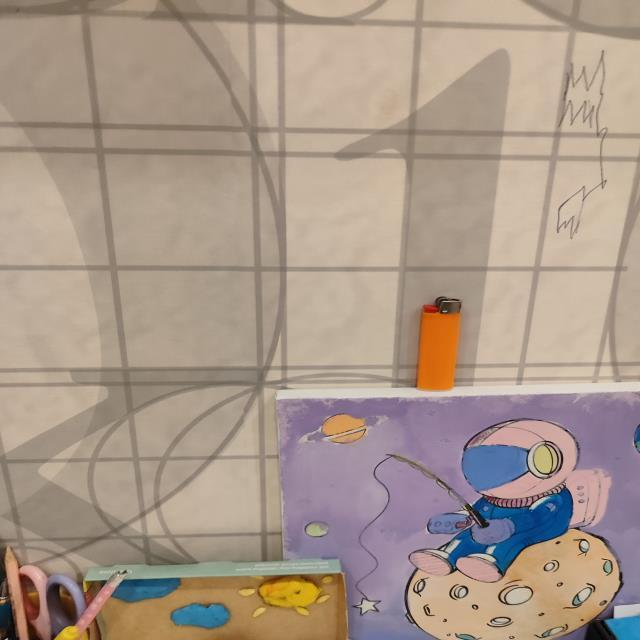lighter: (415, 296, 461, 390)
